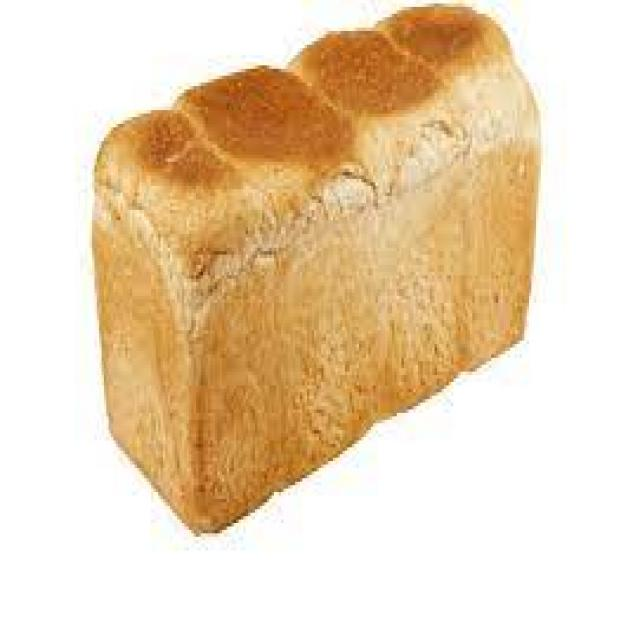bread: (93, 4, 538, 535)
